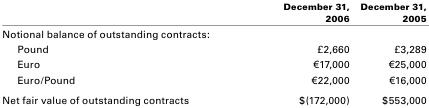table: (1, 0, 425, 105)
table column: (1, 0, 235, 105), (235, 0, 354, 105), (354, 0, 425, 105)
table column header: (1, 0, 425, 25)
table projected row header: (1, 25, 425, 41)
table row: (1, 0, 425, 25), (1, 71, 425, 89), (1, 25, 425, 41), (1, 89, 425, 105), (1, 41, 425, 56), (1, 56, 425, 71)
